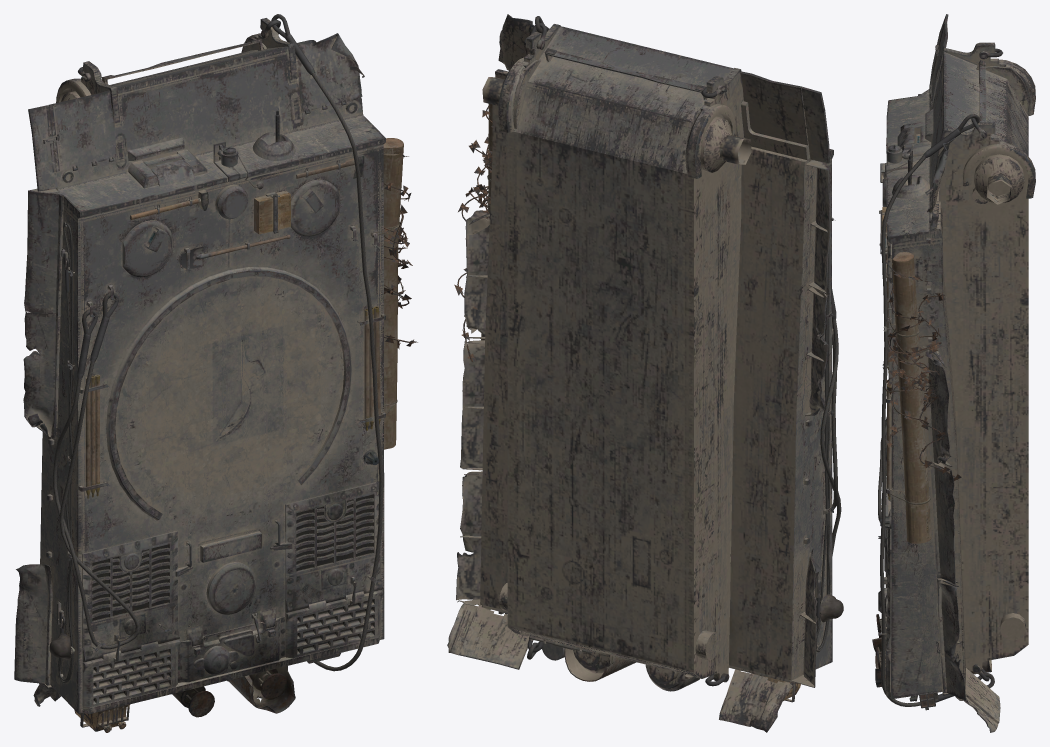
File: Hull.glb
3 views of the same model, side by side, from view 1: azimuth 30°, elevation 25°; view 2: azimuth 150°, elevation 25°; view 3: azimuth 270°, elevation 25° (orthographic). The views are drawn at different scales.
Visible parts, largest first — view 1: set_0_group_0; view 2: set_0_group_0; view 3: set_0_group_0.
Part boxes in pixels (x1,y1,x2,y2): set_0_group_0: [14, 14, 417, 732]; set_0_group_0: [447, 14, 843, 732]; set_0_group_0: [872, 14, 1035, 732].
Size of the model in its own units: 3.9 by 6.48 by 1.61.
Materials: 1 (1 with a texture image).
